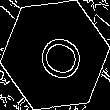O_NW: (25, 25, 85, 85)
